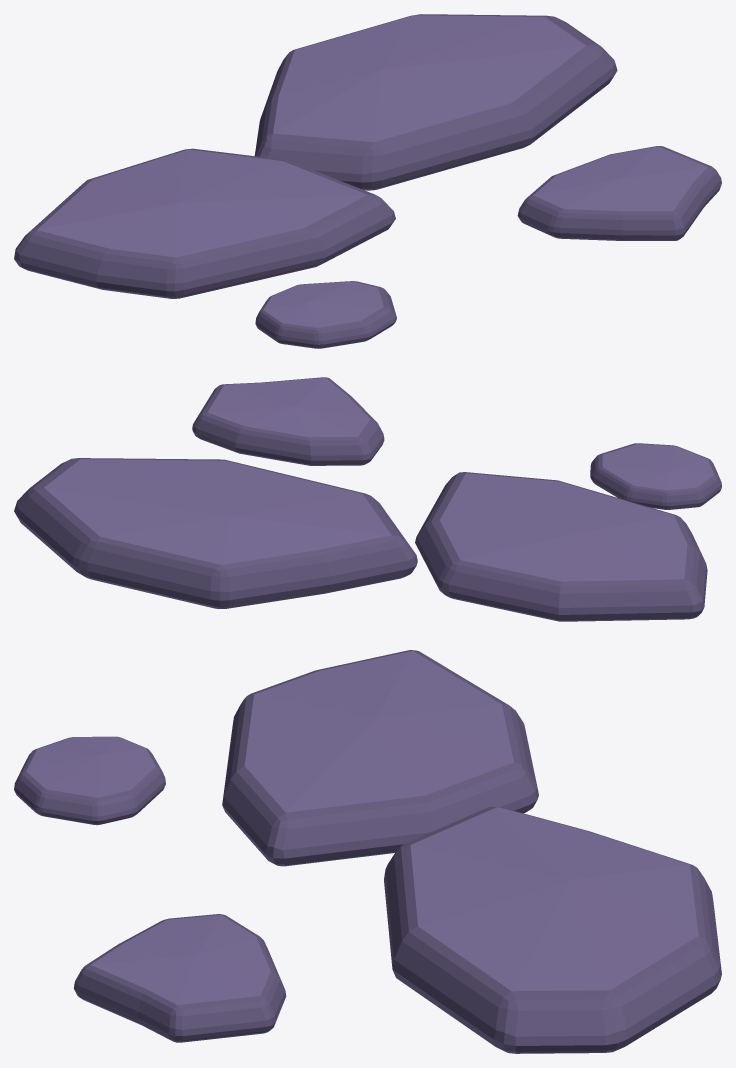
File: shard_group_02.glb
3 renders of one model, top to bottom at view 1: azimuth 30°, elevation 25°; view 2: azimuth 150°, elevation 25°; view 3: azimuth 270°, elevation 25°, orthographic. The views are drawn at different scales.
Visible parts, largest first — view 1: shard_group_02; view 2: shard_group_02; view 3: shard_group_02.
Part boxes in pixels (bbox=[...]): shard_group_02: bbox=[14, 14, 721, 348]; shard_group_02: bbox=[14, 377, 721, 621]; shard_group_02: bbox=[14, 650, 721, 1053].
Size of the model in its own units: 1.08 by 0.0853 by 0.8428.
